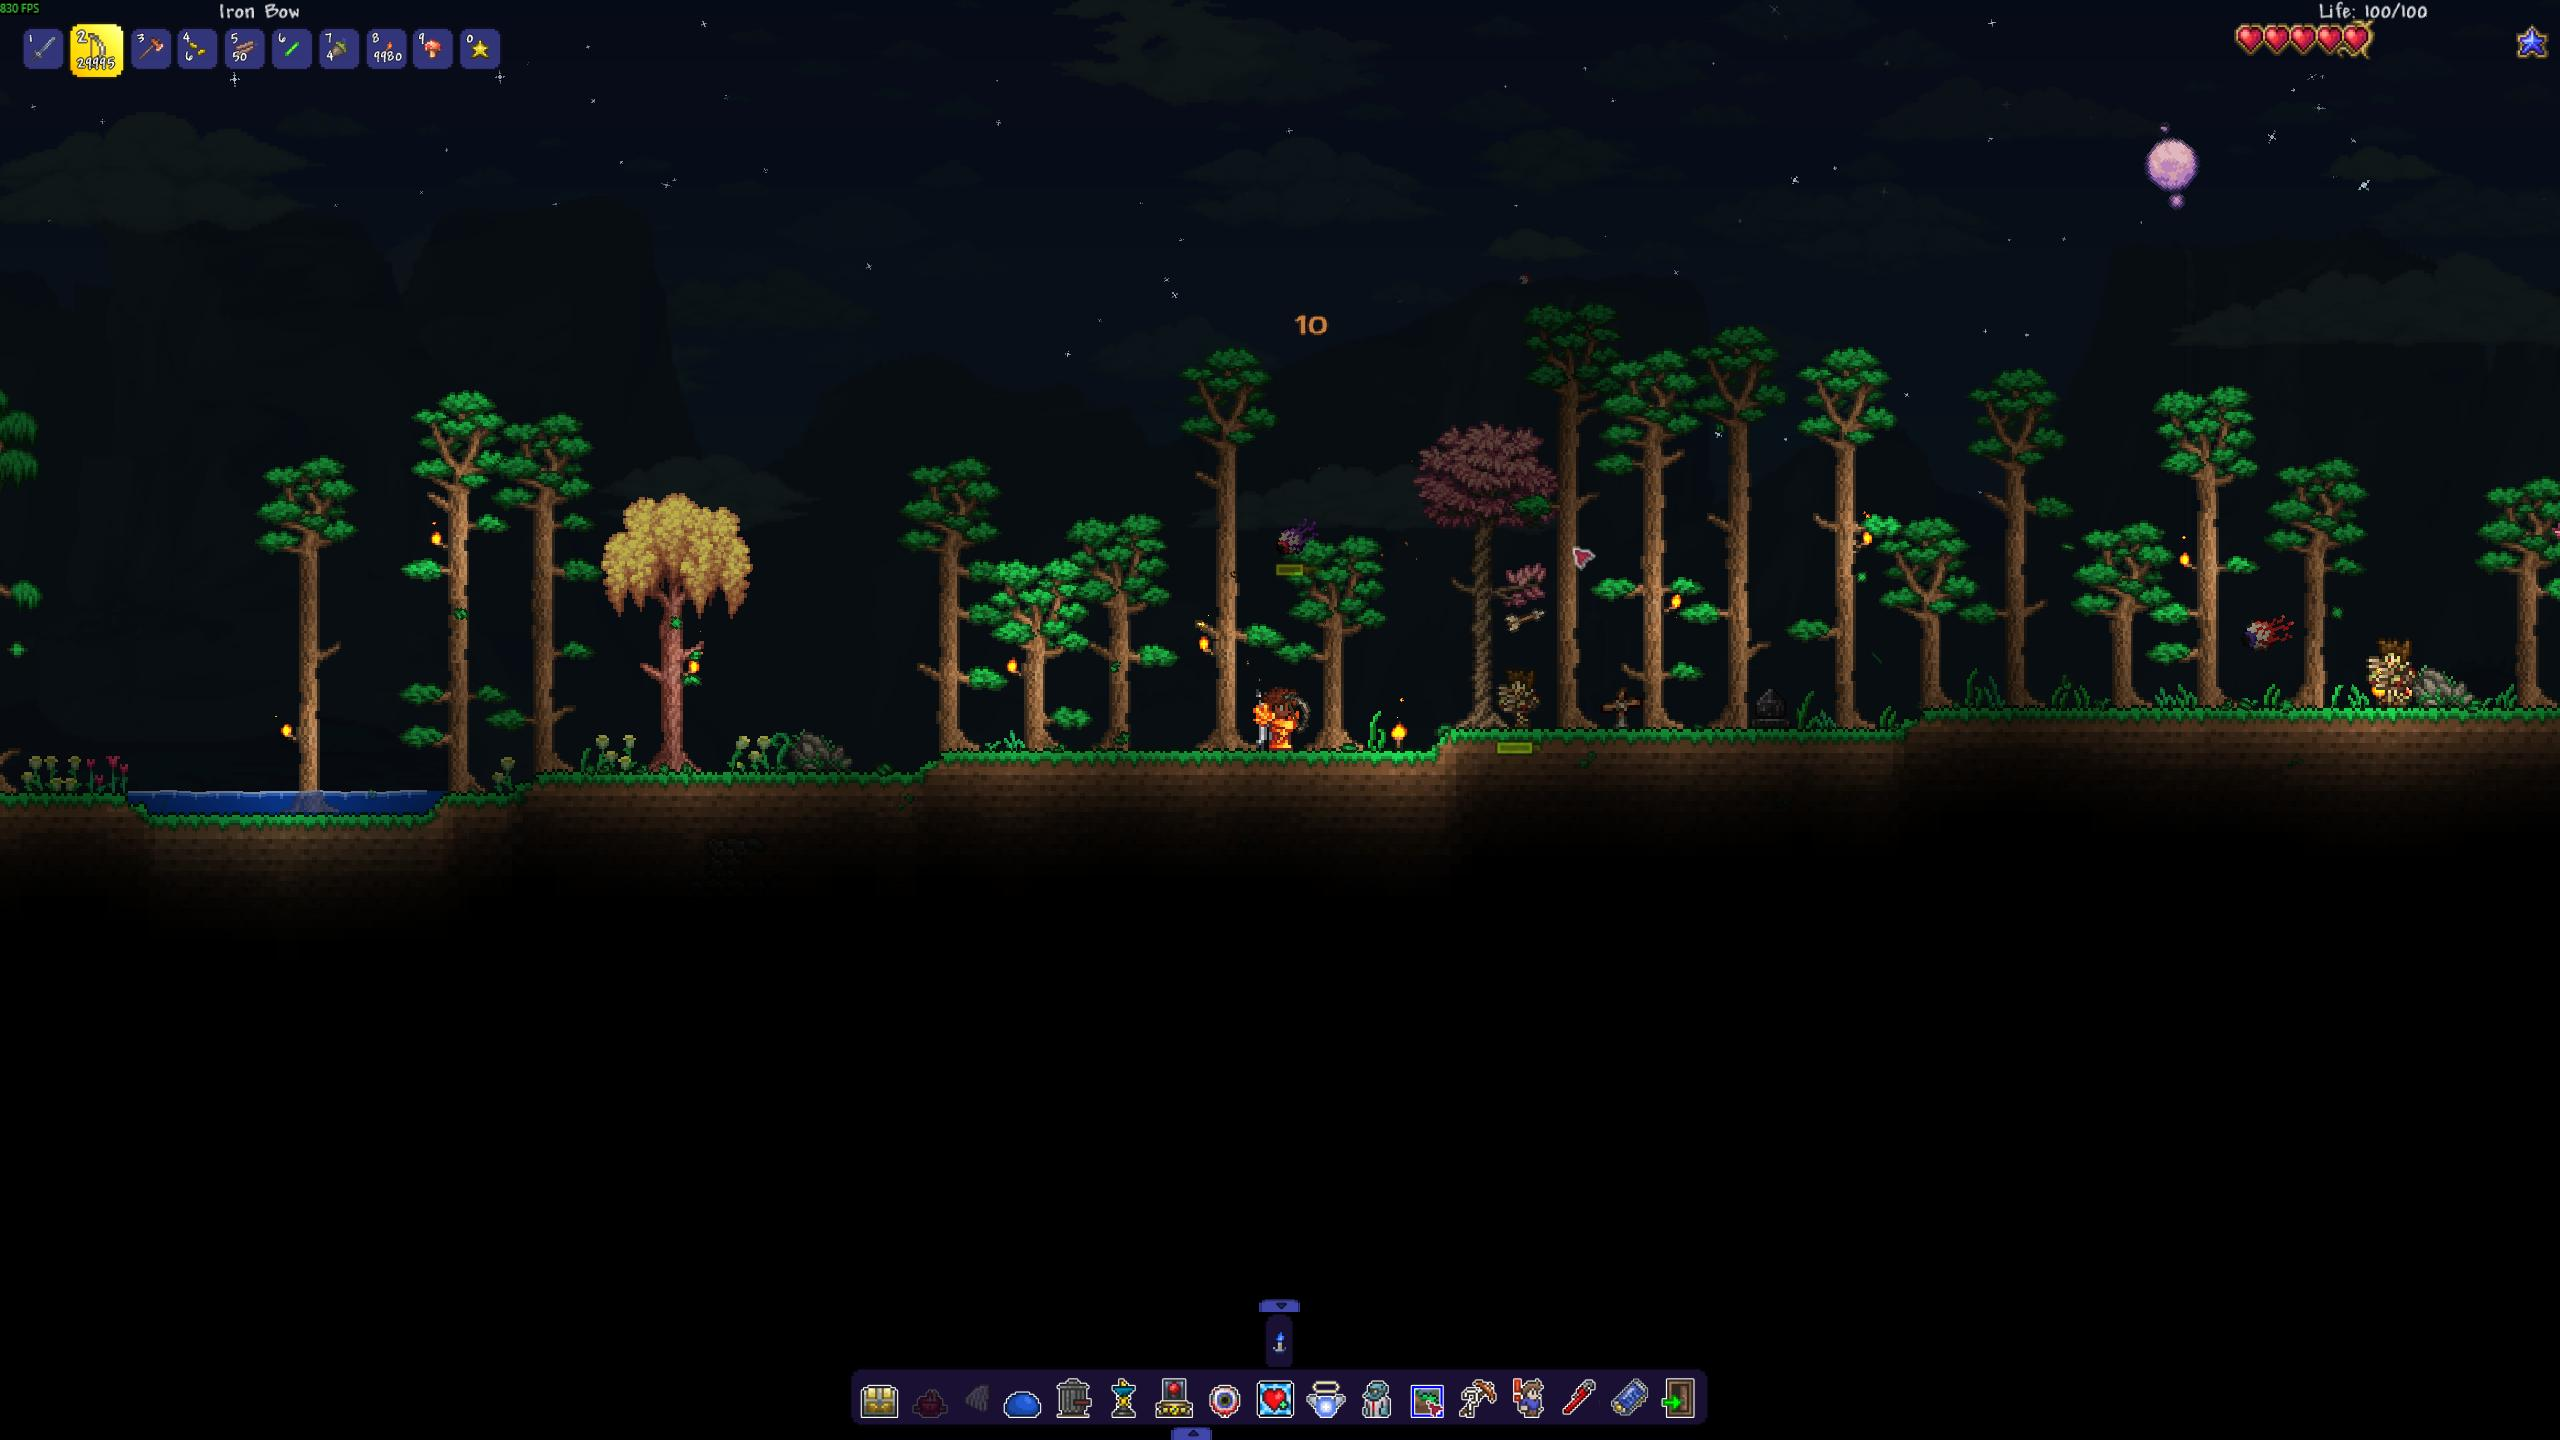Demon Eye: (1271, 508, 1319, 559), (2238, 612, 2296, 652)
Zombie: (2361, 631, 2414, 707), (1491, 665, 1544, 730)
